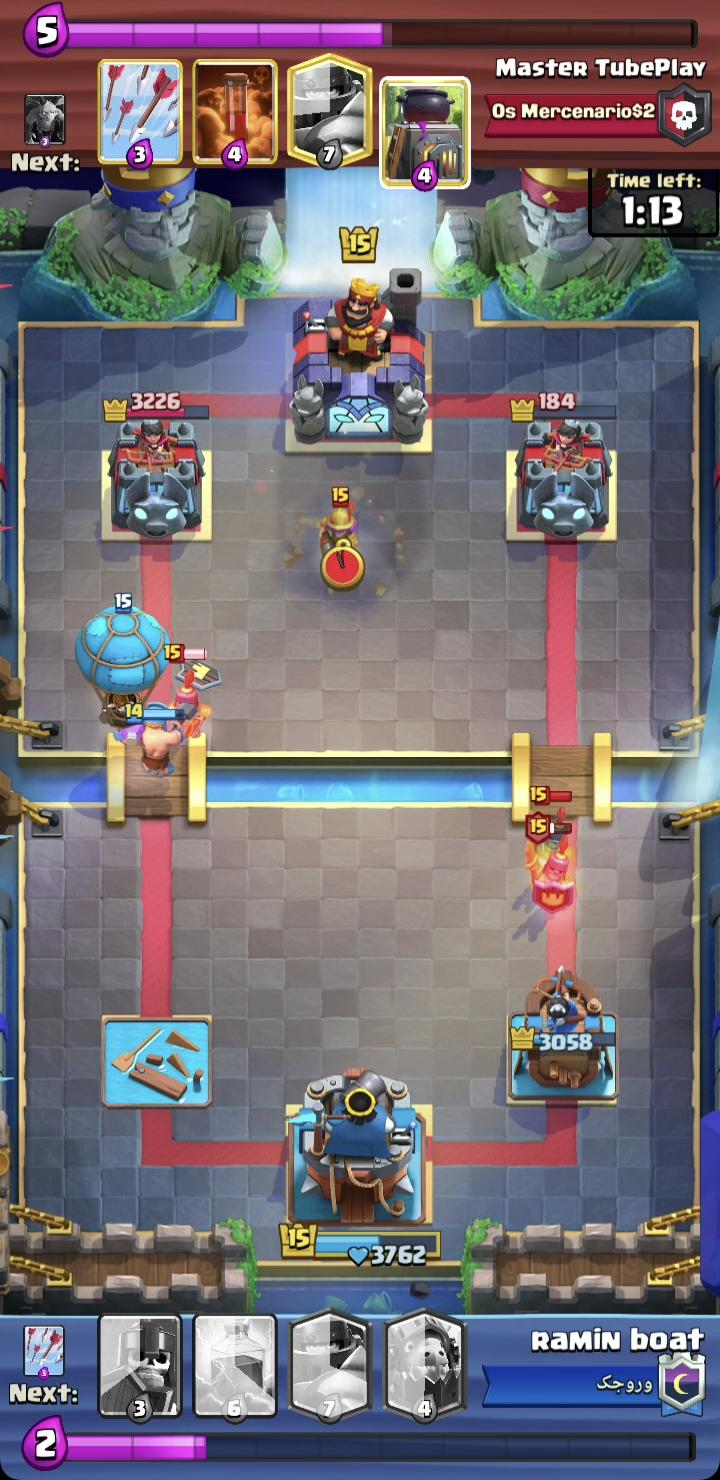ally_balloon: (74, 592, 172, 730)
ally_lumberjack: (122, 699, 199, 780)
enemy_guard: (523, 810, 577, 913), (161, 641, 211, 747), (528, 784, 574, 876)
enemy_musketeer: (319, 484, 361, 579)
